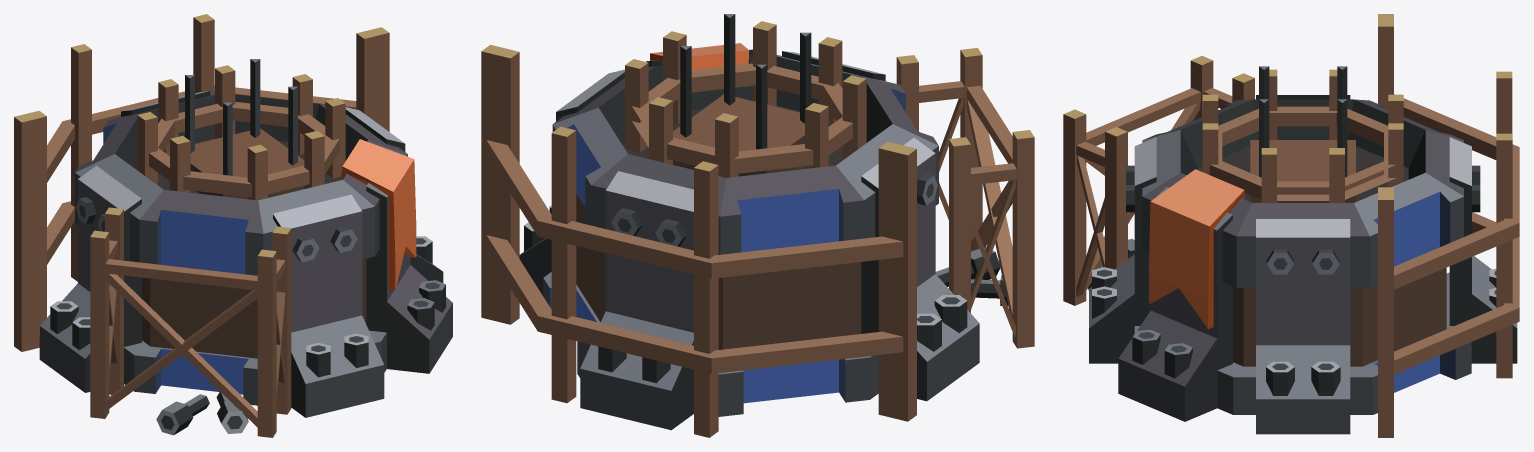
File: mortar_lvl3_construction.fbx
3 renders of one model, left to right at view 1: azimuth 30°, elevation 25°; view 2: azimuth 150°, elevation 25°; view 3: azimuth 270°, elevation 25°, orthographic. The views are drawn at different scales.
Parts seen in each view (by area): view 1: TB_CanonTower_Lvl3_Cons; view 2: TB_CanonTower_Lvl3_Cons; view 3: TB_CanonTower_Lvl3_Cons.
Boxes of the visible parts, box(x1,y1,x2,y2) form: TB_CanonTower_Lvl3_Cons: box(14, 14, 452, 437); TB_CanonTower_Lvl3_Cons: box(481, 14, 1034, 437); TB_CanonTower_Lvl3_Cons: box(1063, 14, 1519, 437).
Bounding box in the file's own units: 9.09 × 5.69 × 9.01.
